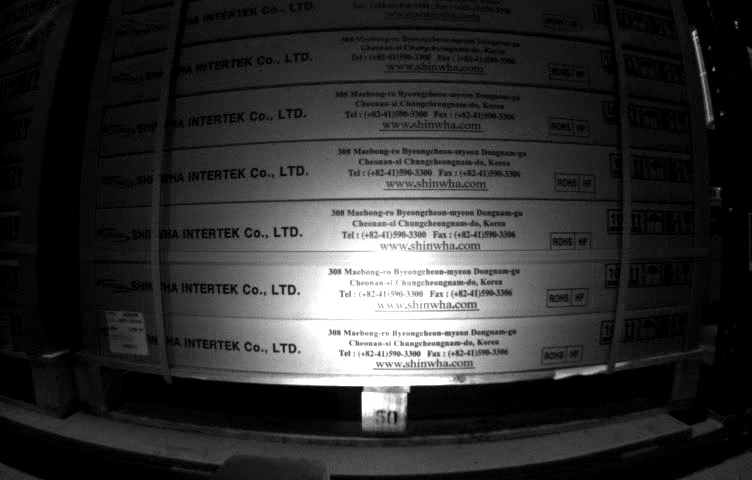True Barcode: (106, 308, 149, 358)
